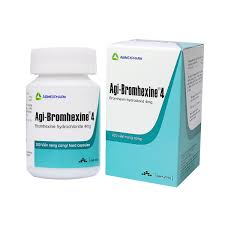Bromhexin: (120, 84, 160, 99), (36, 112, 89, 121)
